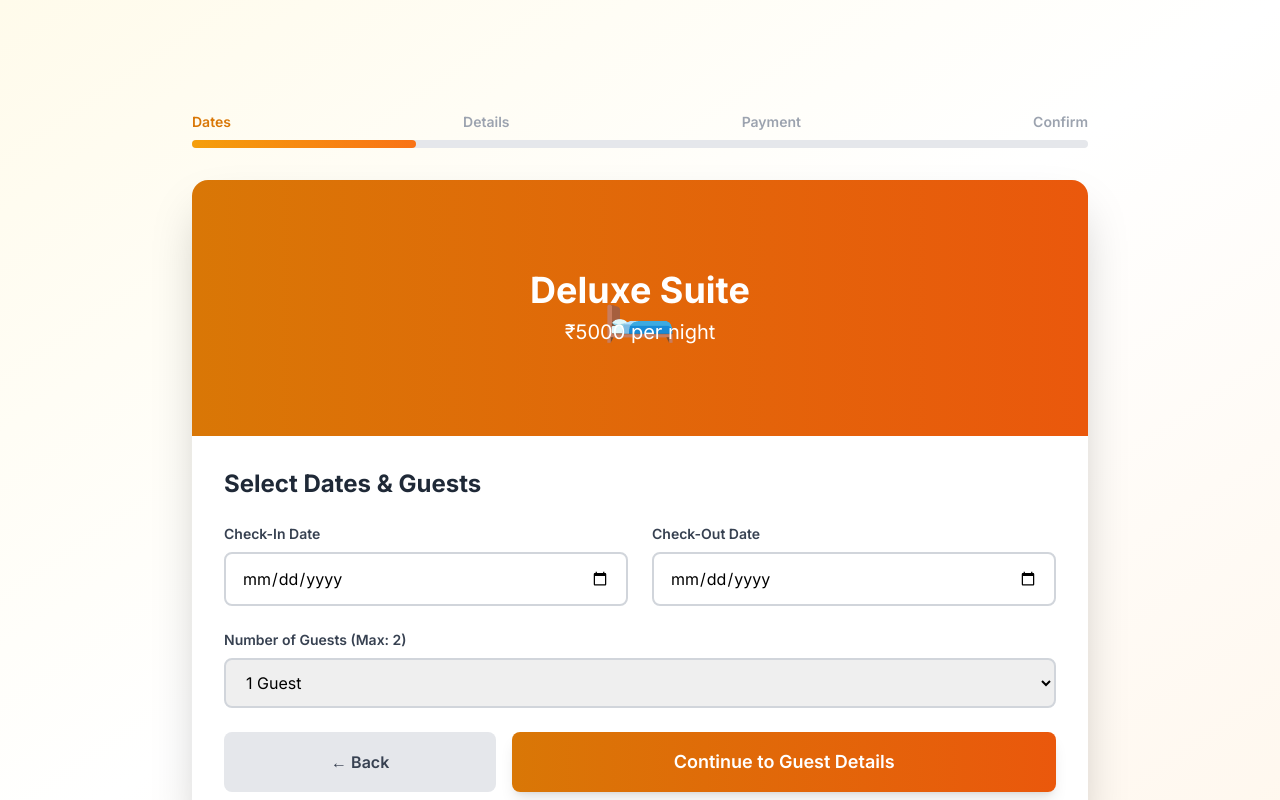
Scenario: Booking page › autofills the guest email on step 2
Expected: the heading "Deluxe Suite" is shown, [530,270,750,310]
In the date field labelled "Check-In Date": x=426, y=579 [224,552,628,606], type "2026-06-15"
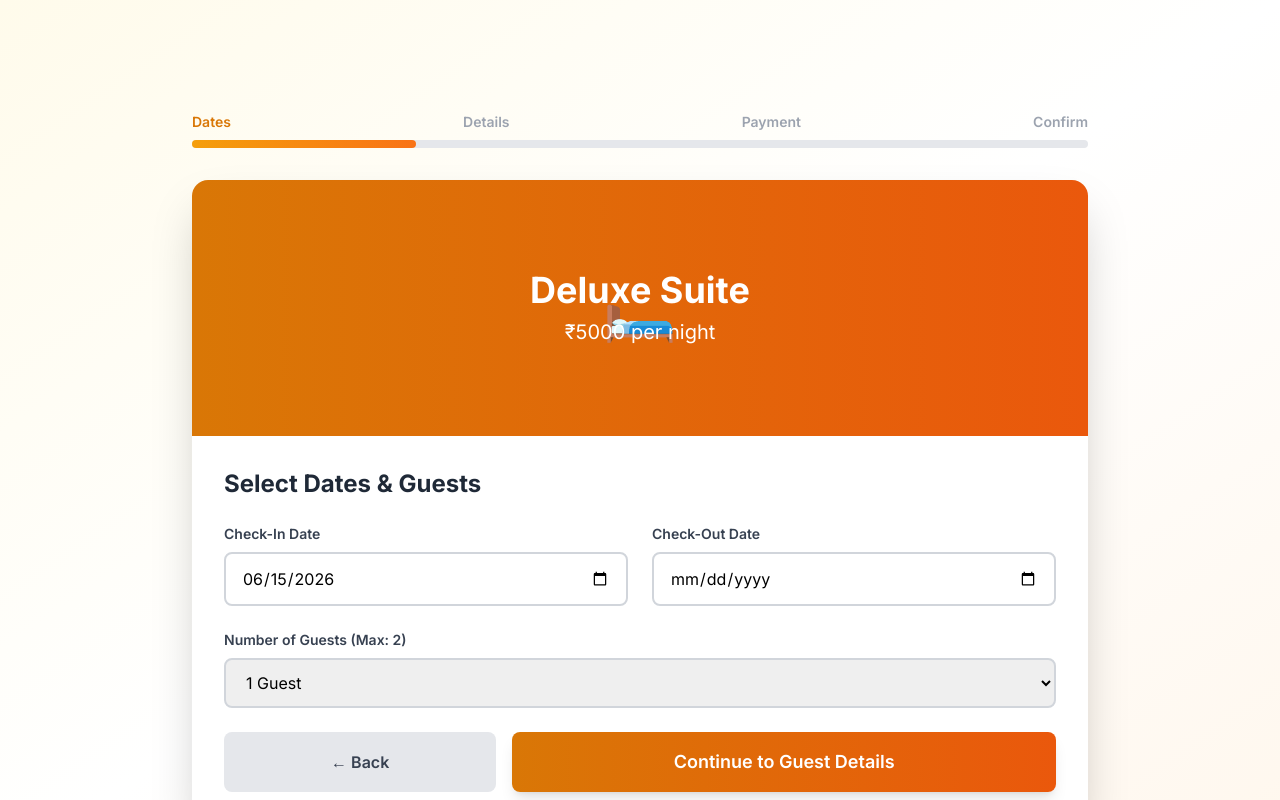
In the date field labelled "Check-Out Date": x=854, y=579 [652,552,1056,606], type "2026-06-17"
(page scrolled)
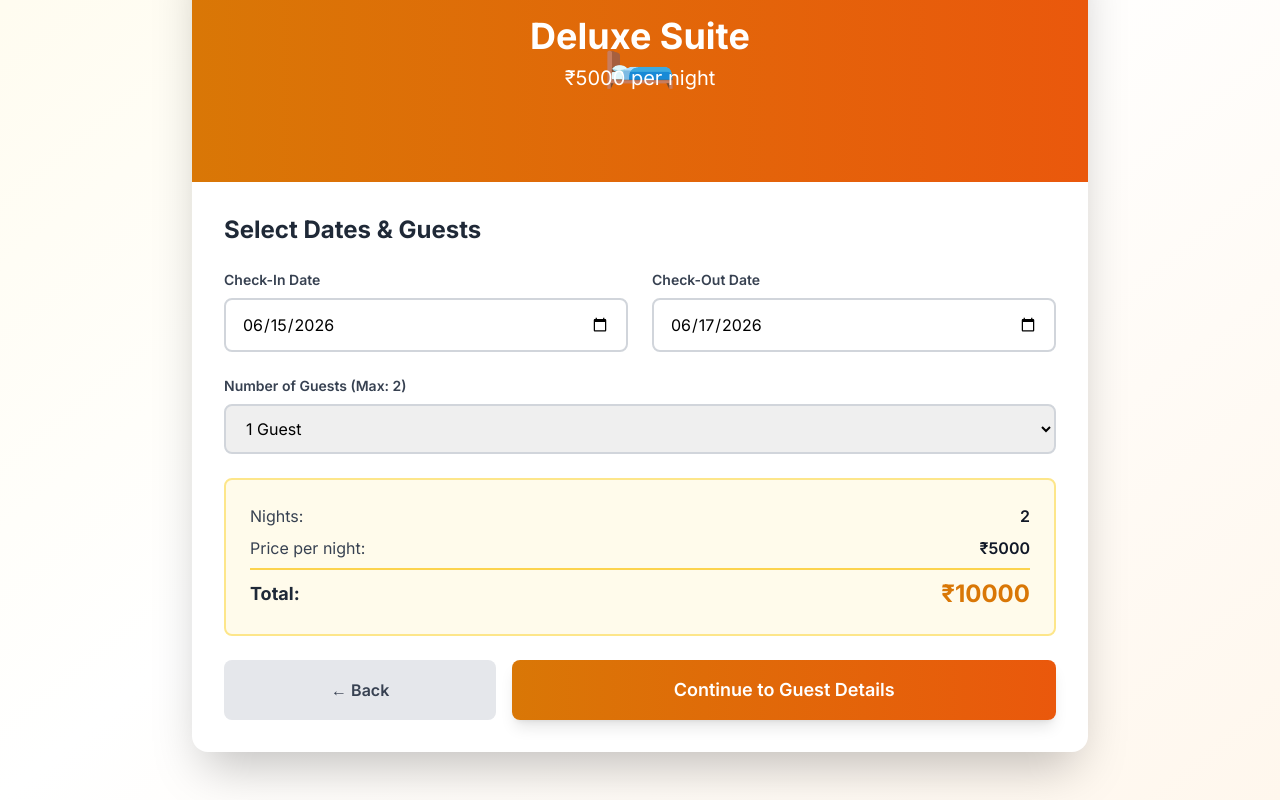
Click the button "Continue to Guest Details": x=784, y=690 [512,660,1056,720]
(page scrolled)
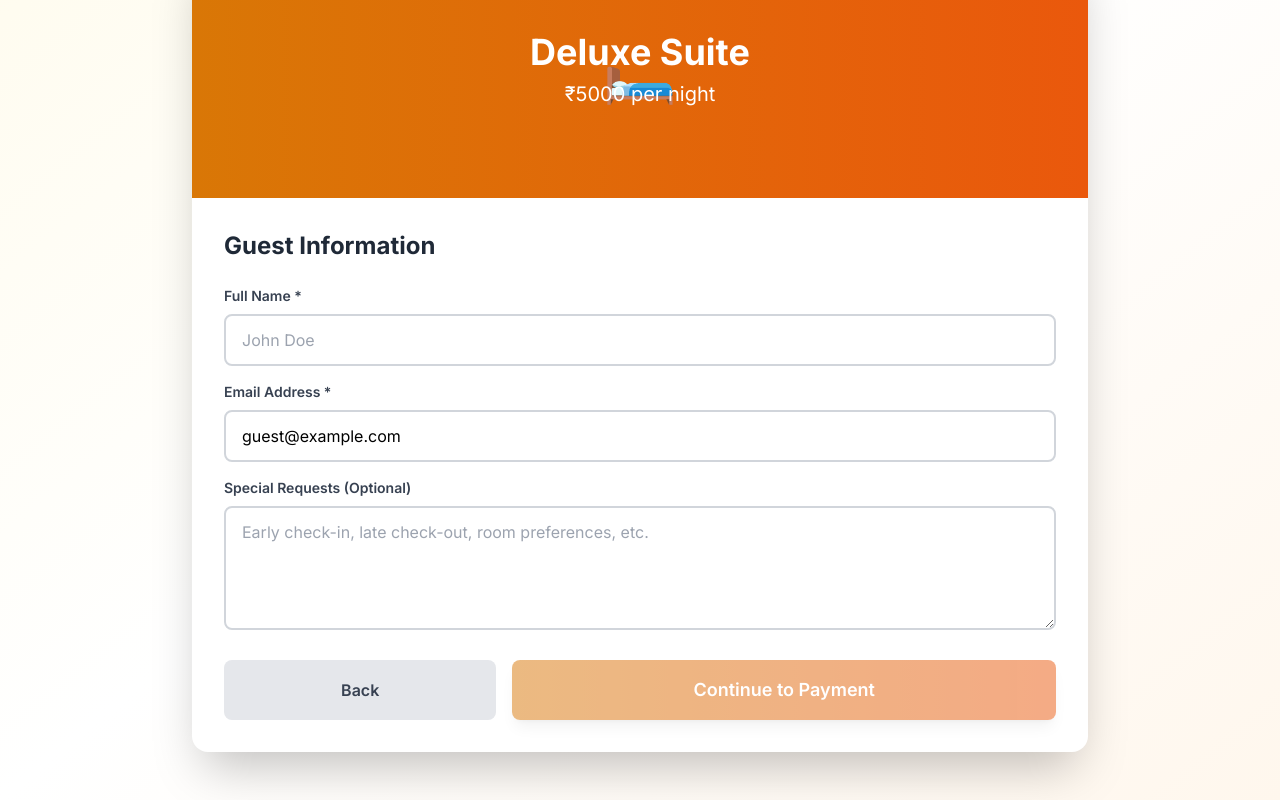
Expected: the field labelled "Email Address *" holds "guest@example.com", [224,410,1056,462]
